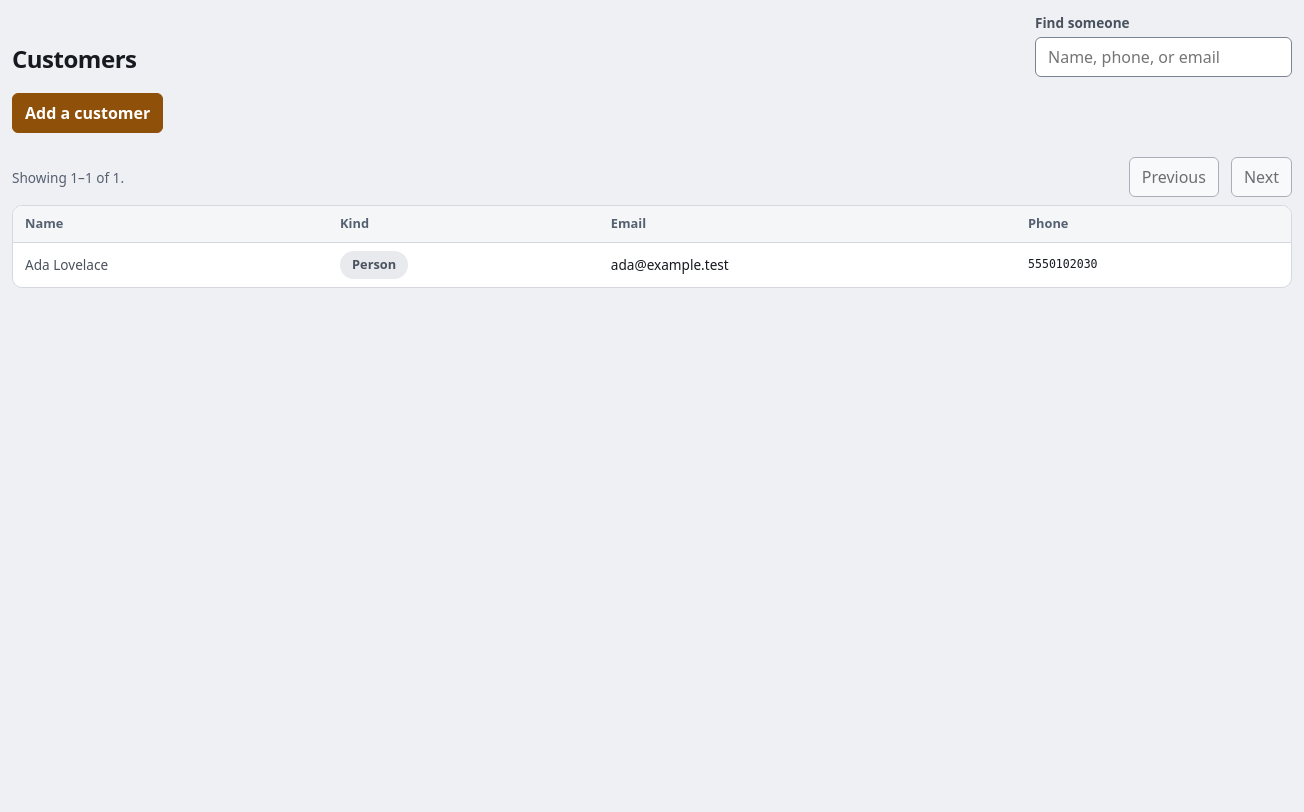
Scenario: adding a customer › creates nobody when the person says it is one of these
The image size is (1304, 812).
Check: the button "Ada Lovelace" is shown, box [25,253,316,277]
Click the button "Add a customer". click: (88, 113)
box: [12,93,163,133]
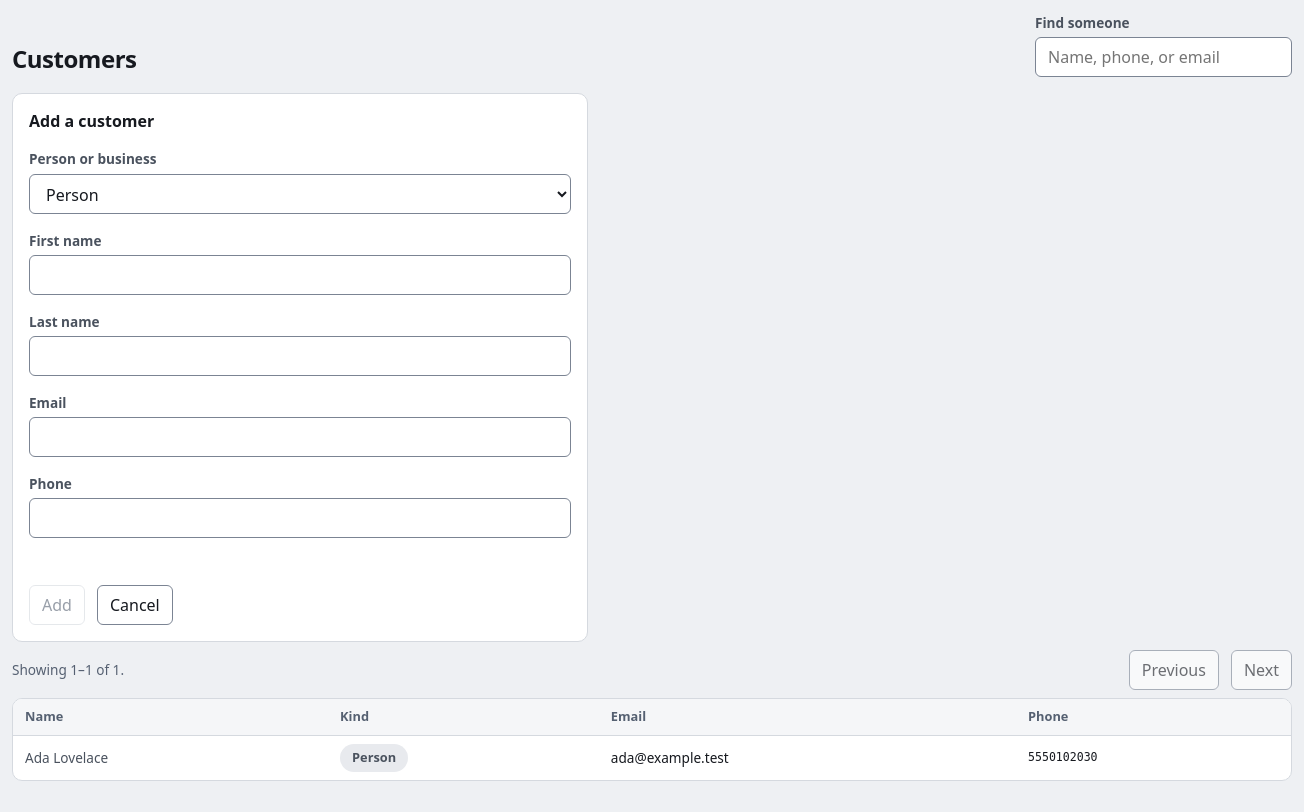
Type "Lovelace" into the field labelled "Last name". click: (300, 356)
box: [29,336,571,376]
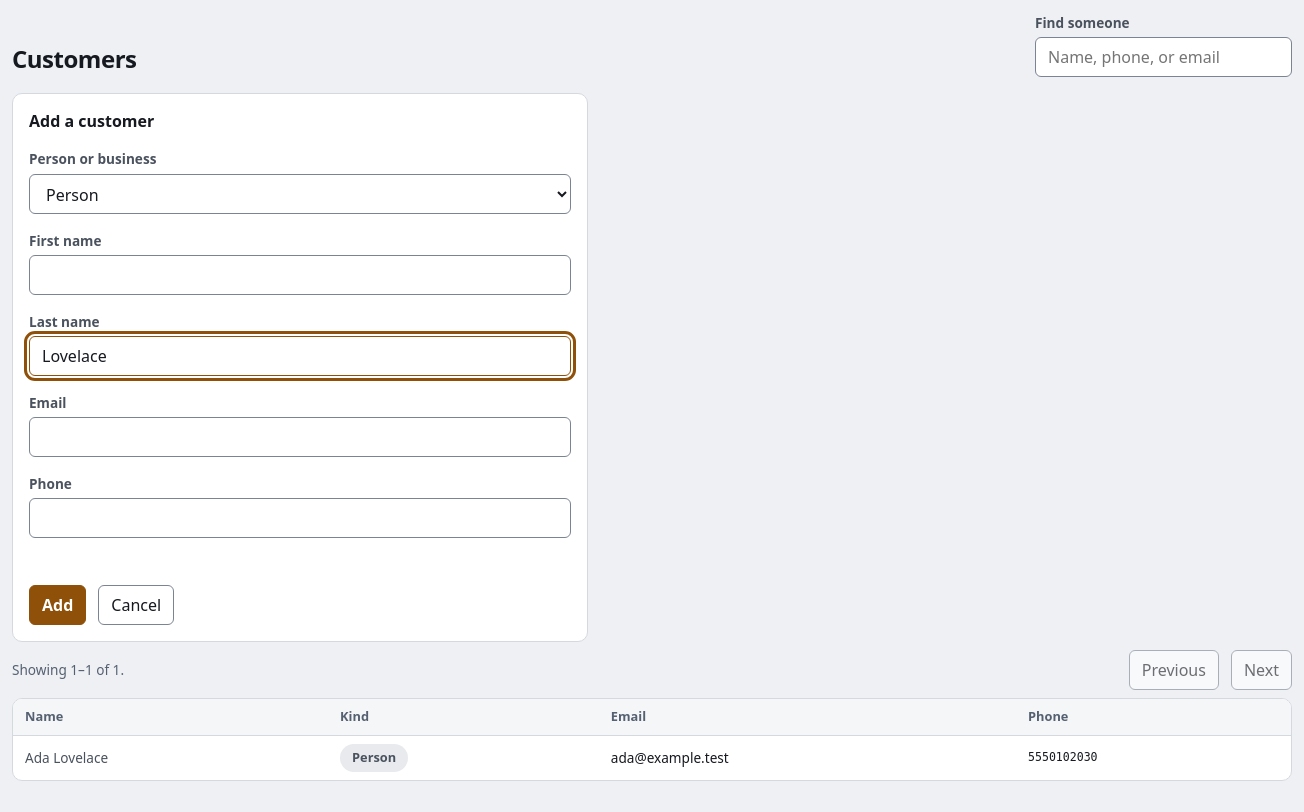
Click the button "Add". click: (58, 605)
box: [29,585,86,625]
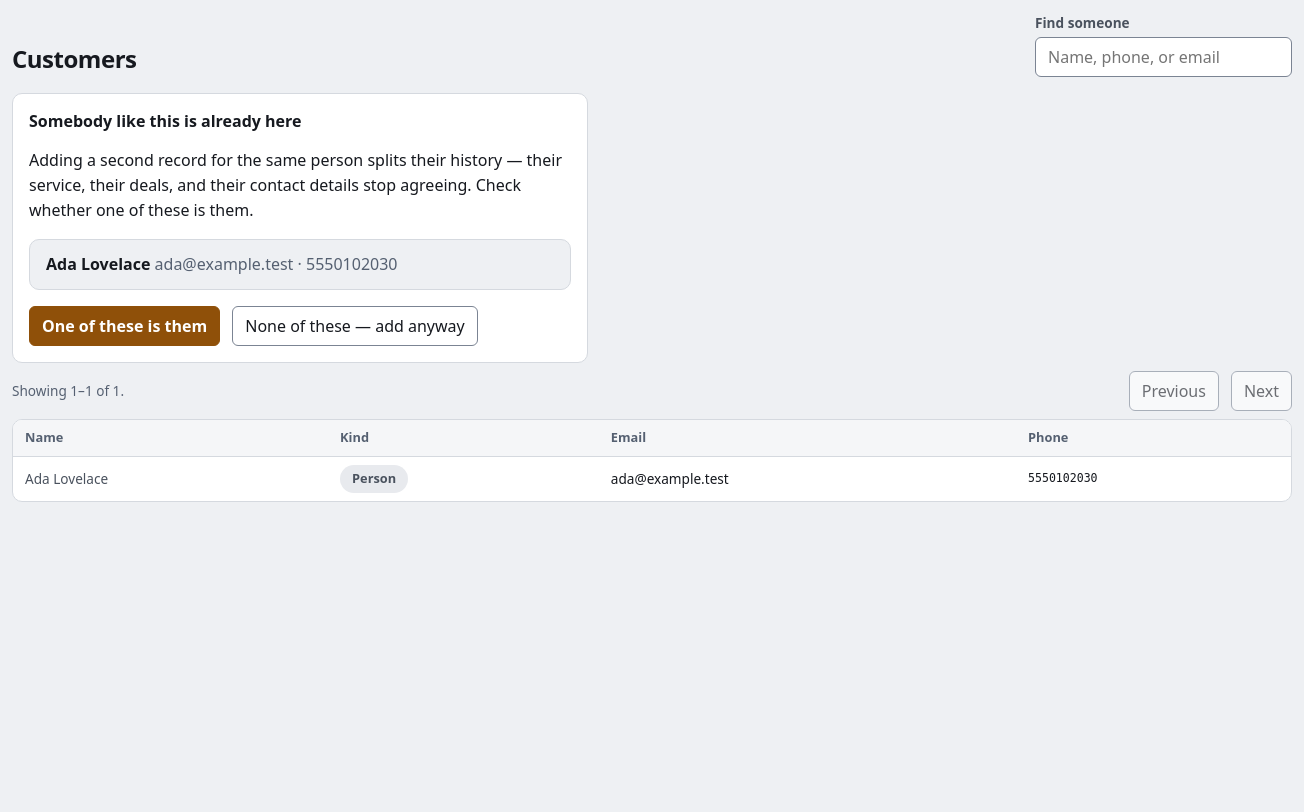
Check: the heading "Somebody like this is already here" is shown, box [29,110,301,132]
Click the button "One of these is them". click: (125, 326)
box: [29,306,220,346]
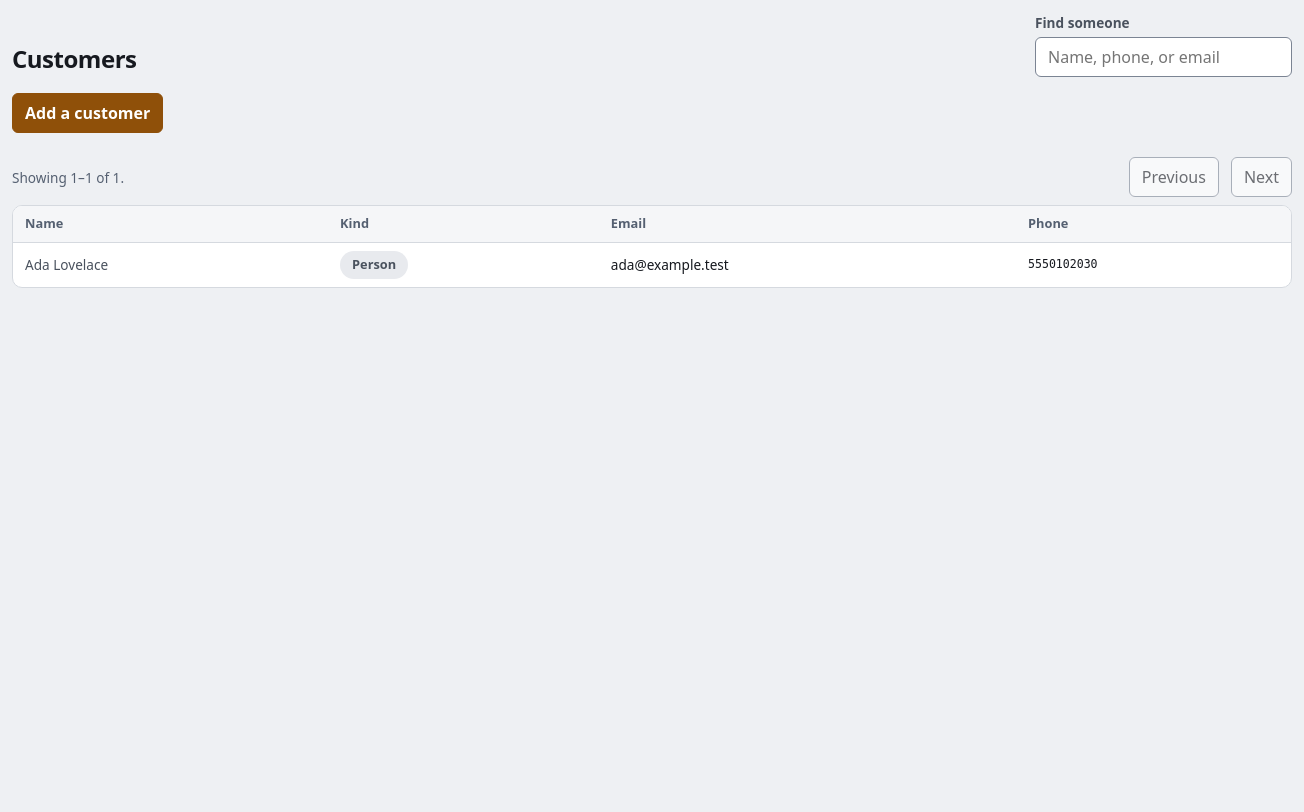
Check: the button "Add a customer" is shown, box [12,93,163,133]
